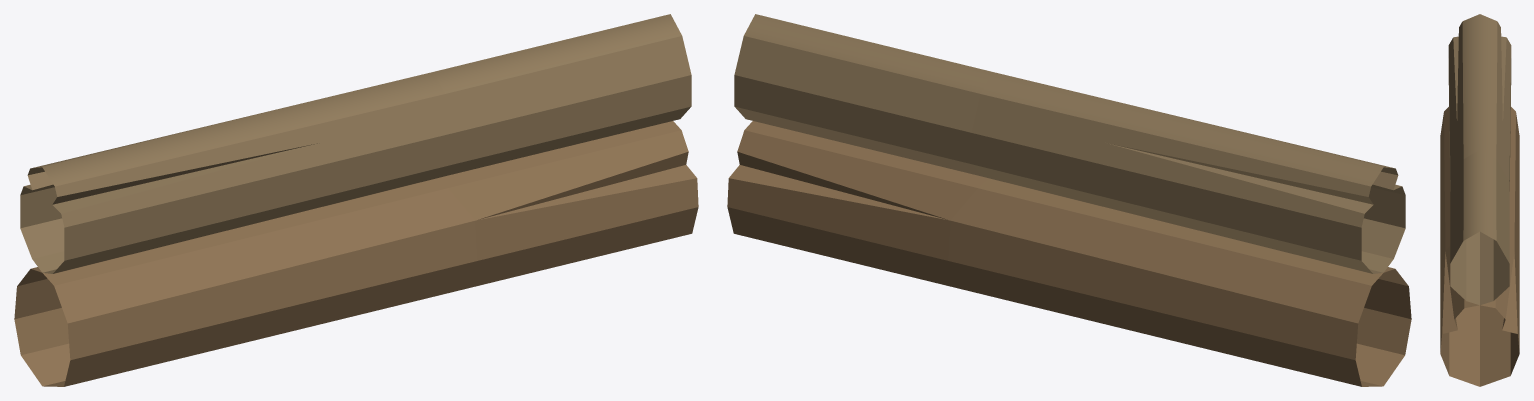
The model's file is rpgpp_ag_wall_01_3x1_a.fbx.
The picture shows the model from 3 angles, left to right: view 1: azimuth 30°, elevation 25°; view 2: azimuth 150°, elevation 25°; view 3: azimuth 270°, elevation 25°; orthographic projection. The views are drawn at different scales.
Visible parts, largest first — view 1: rpgpp_ag_wall_01_3x1_a; view 2: rpgpp_ag_wall_01_3x1_a; view 3: rpgpp_ag_wall_01_3x1_a.
Part boxes in pixels (x1,y1,x2,y2): rpgpp_ag_wall_01_3x1_a: [14, 14, 698, 386]; rpgpp_ag_wall_01_3x1_a: [727, 14, 1411, 386]; rpgpp_ag_wall_01_3x1_a: [1440, 14, 1519, 386].
Size of the model in its own units: 3 by 1 by 0.4626.
